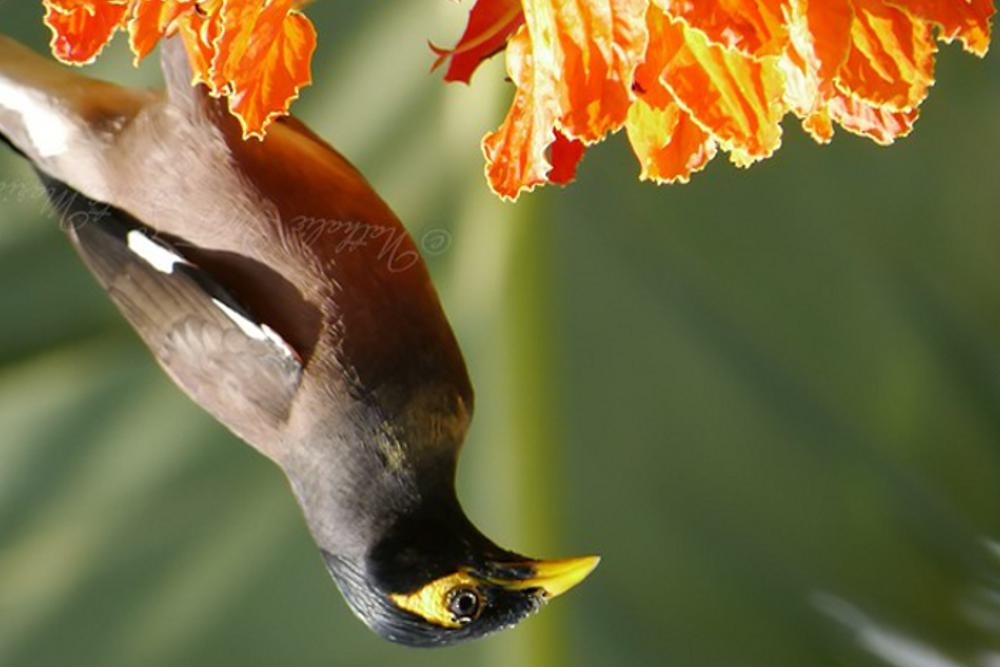myna: (56, 64, 608, 639)
